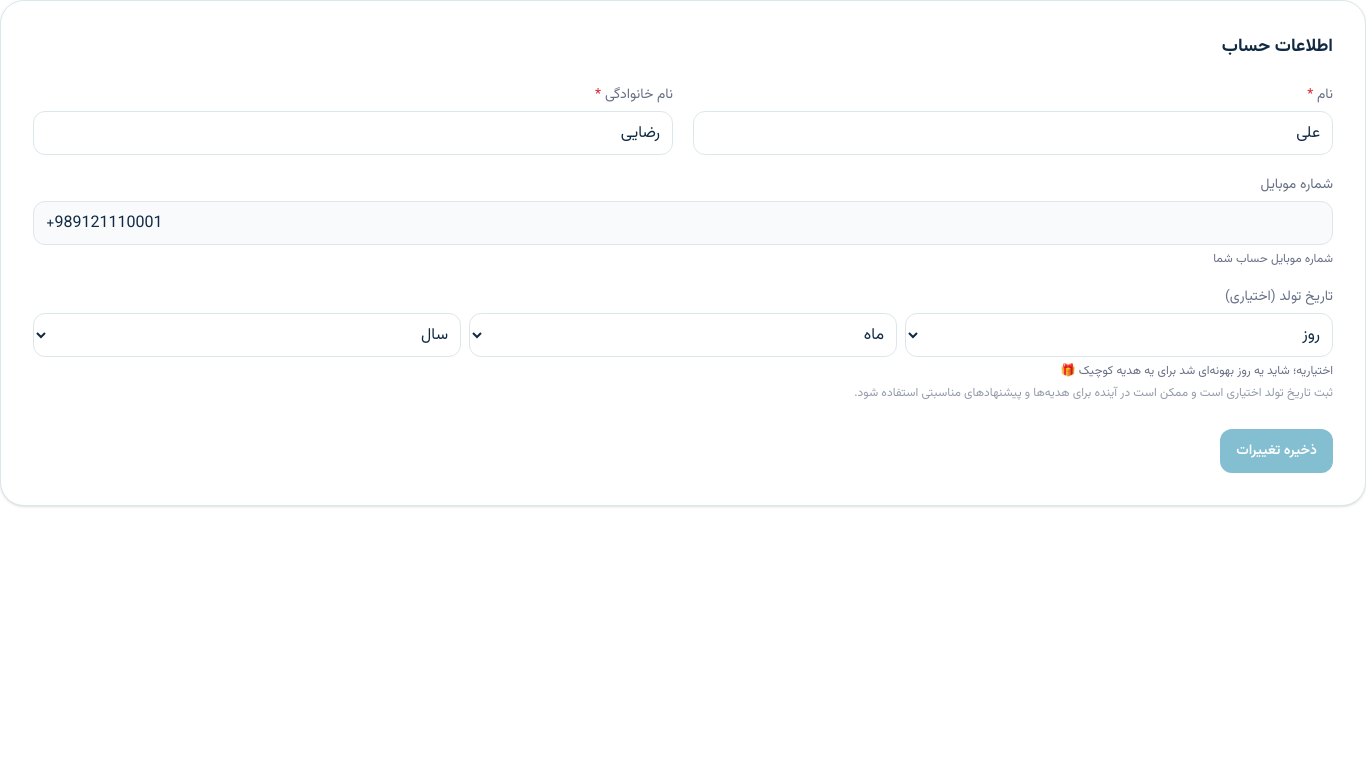
ProfileSection › shows a generic error toast when saving fails, without leaking the raw API message
In the field labelled "نام": (1013, 133) [693, 111, 1333, 155], type "ی"
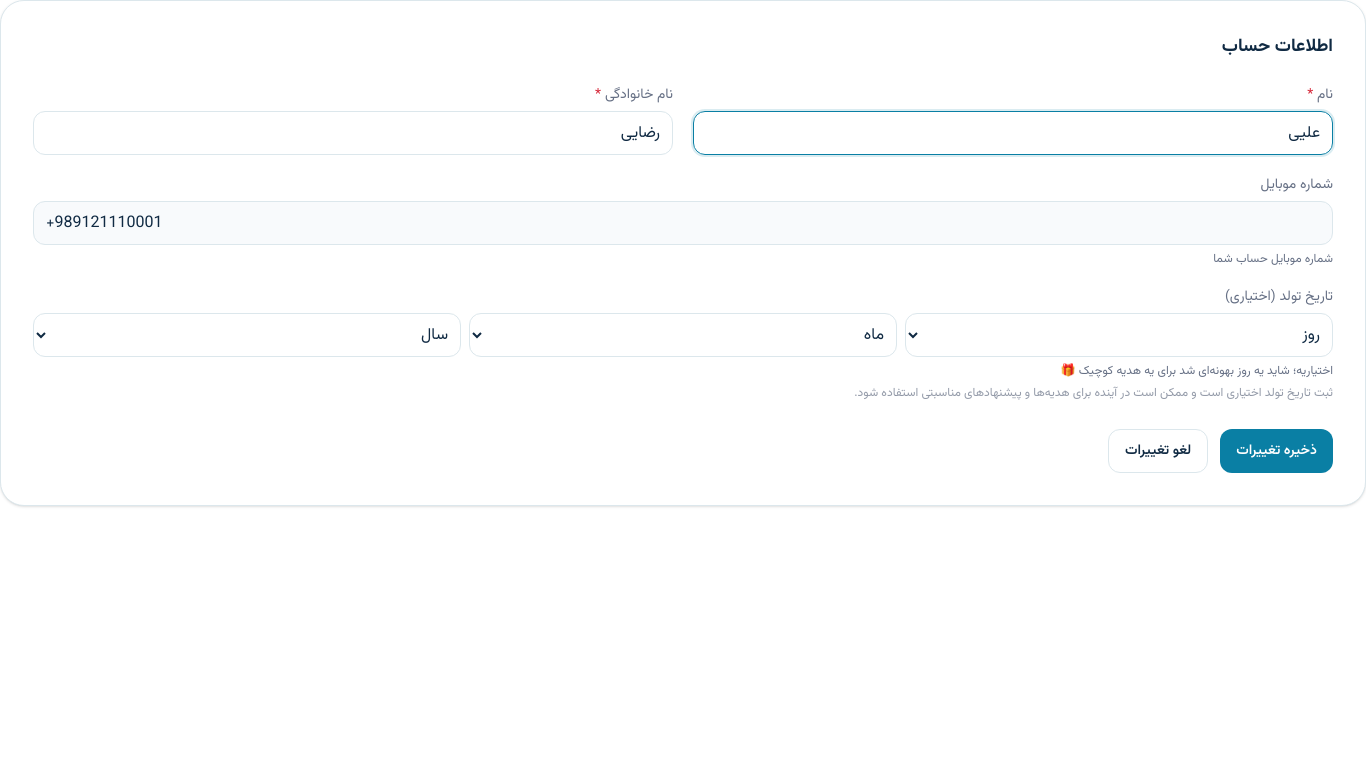
Click the button "ذخیره تغییرات": click(1277, 451) [1220, 429, 1333, 473]
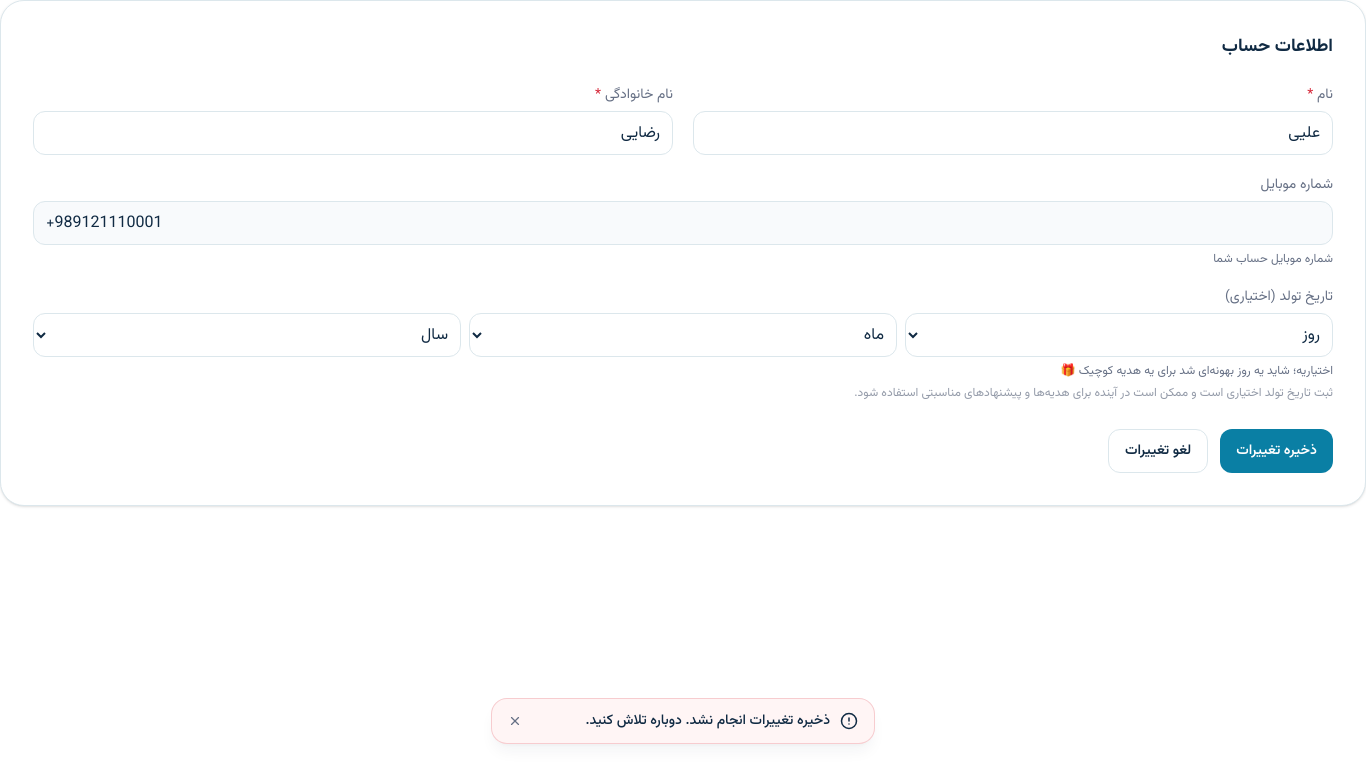
Check: the text "ذخیره تغییرات انجام نشد. دوباره تلاش کنید." is shown, box [585, 710, 830, 732]
